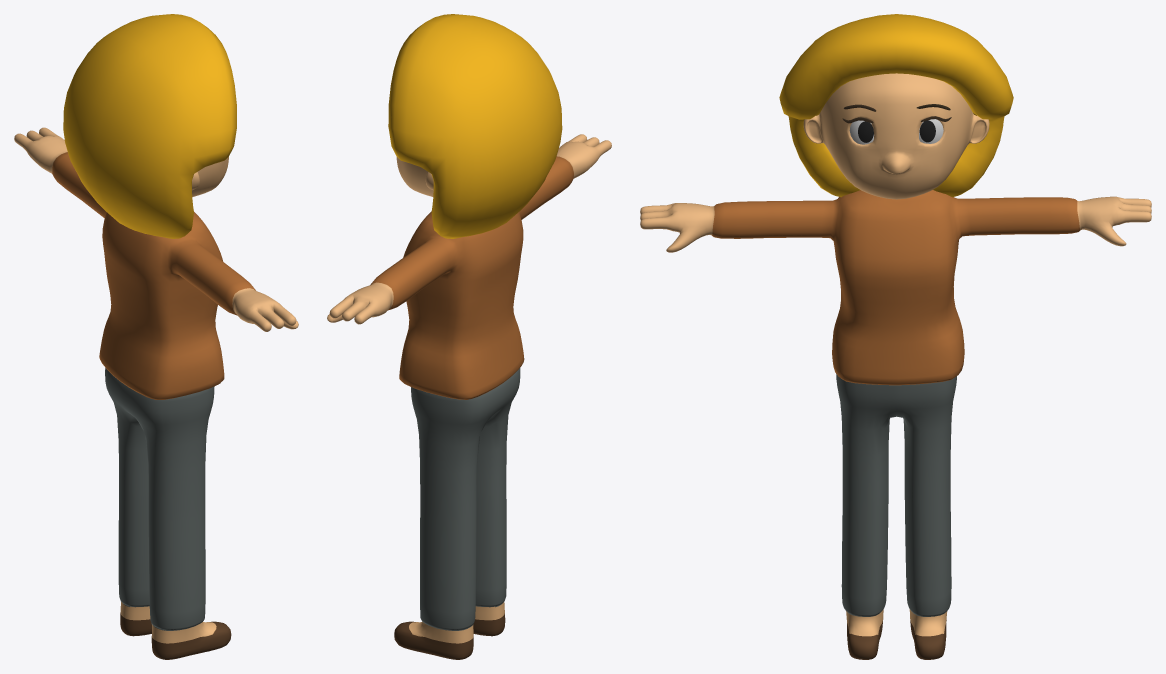
File: ClientACABELAOChef 1 (1).fbx
3 renders of one model, left to right at view 1: azimuth 30°, elevation 25°; view 2: azimuth 150°, elevation 25°; view 3: azimuth 270°, elevation 25°, orthographic.
Parts seen in each view (by area): view 1: CABEÇA, Cylinder.002, Cube.005, CABEÇA.001; view 2: CABEÇA, Cylinder.002, Cube.005, CABEÇA.001; view 3: Cylinder.002, Cube.005, CABEÇA, CABEÇA.001.
Boxes of the visible parts, x1,y1,x2,y2 form: CABEÇA: (63,14,236,238); Cylinder.002: (14,127,298,399); Cube.005: (105,368,231,659); CABEÇA.001: (192,157,228,196); CABEÇA: (388,14,562,238); Cylinder.002: (327,134,611,399); Cube.005: (394,368,520,659); CABEÇA.001: (396,157,433,196); Cylinder.002: (640,190,1151,385); Cube.005: (836,374,956,659); CABEÇA: (779,14,1013,197); CABEÇA.001: (803,73,989,199).
Bounding box in the file's own units: 106 × 424 × 316.
